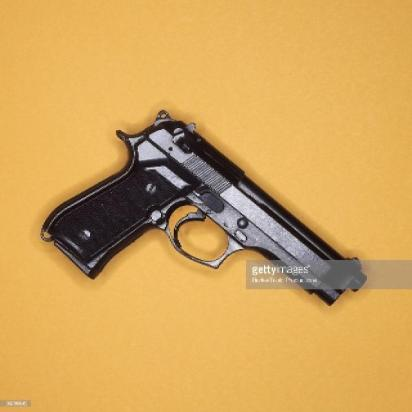Gun: (36, 108, 368, 306)
